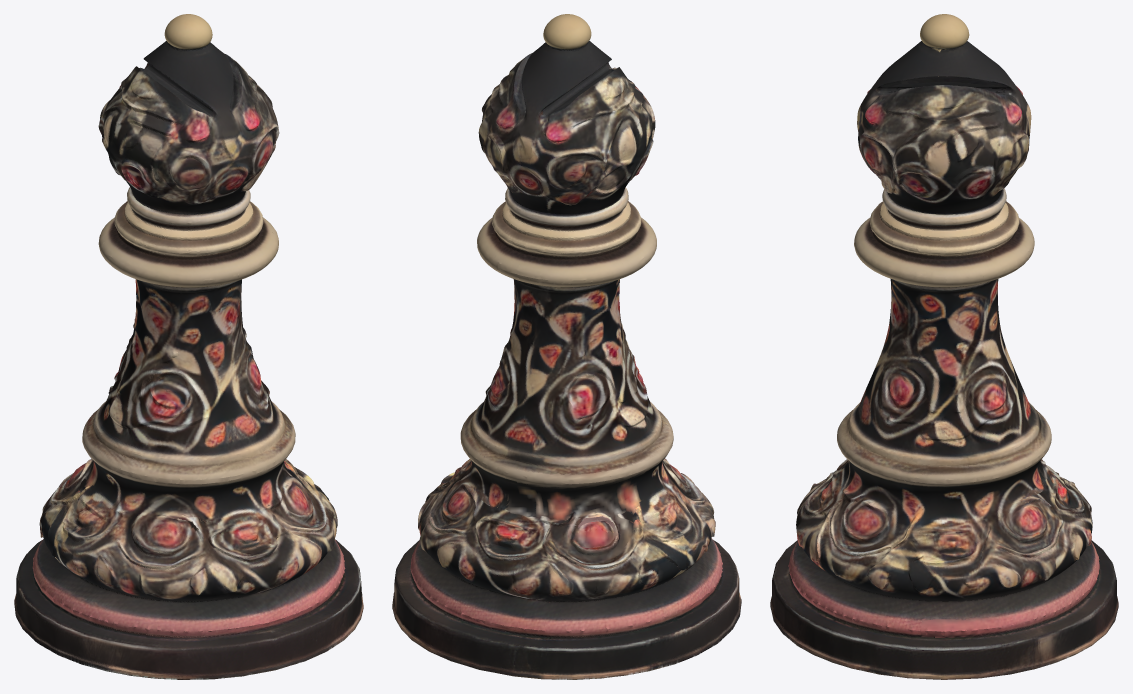
Rendered from pawn_black.glb.
3 views of the same model, side by side, from view 1: azimuth 30°, elevation 25°; view 2: azimuth 150°, elevation 25°; view 3: azimuth 270°, elevation 25° (orthographic).
Parts seen in each view (by area): view 1: model; view 2: model; view 3: model.
Boxes of the visible parts, x1,y1,x2,y2 form: model: (14, 14, 363, 679); model: (392, 14, 741, 679); model: (770, 14, 1118, 679).
Bounding box in the file's own units: 1.02 × 1.9 × 1.02.
Materials: 1 (1 with a texture image).
